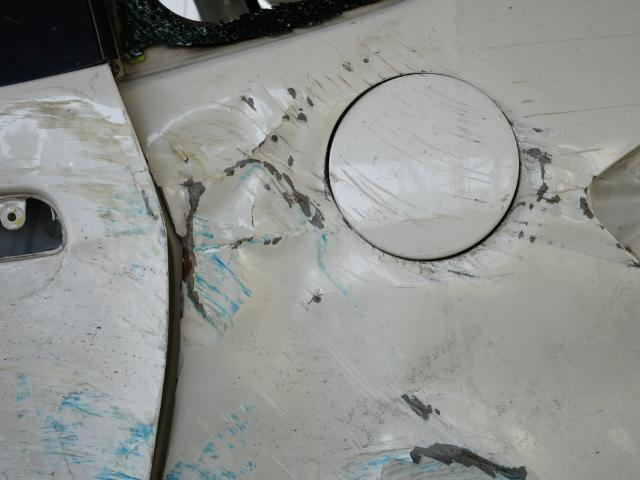dent: (152, 87, 323, 339), (0, 102, 164, 347)
scratch: (159, 392, 551, 480), (466, 123, 637, 270), (0, 368, 159, 480)
